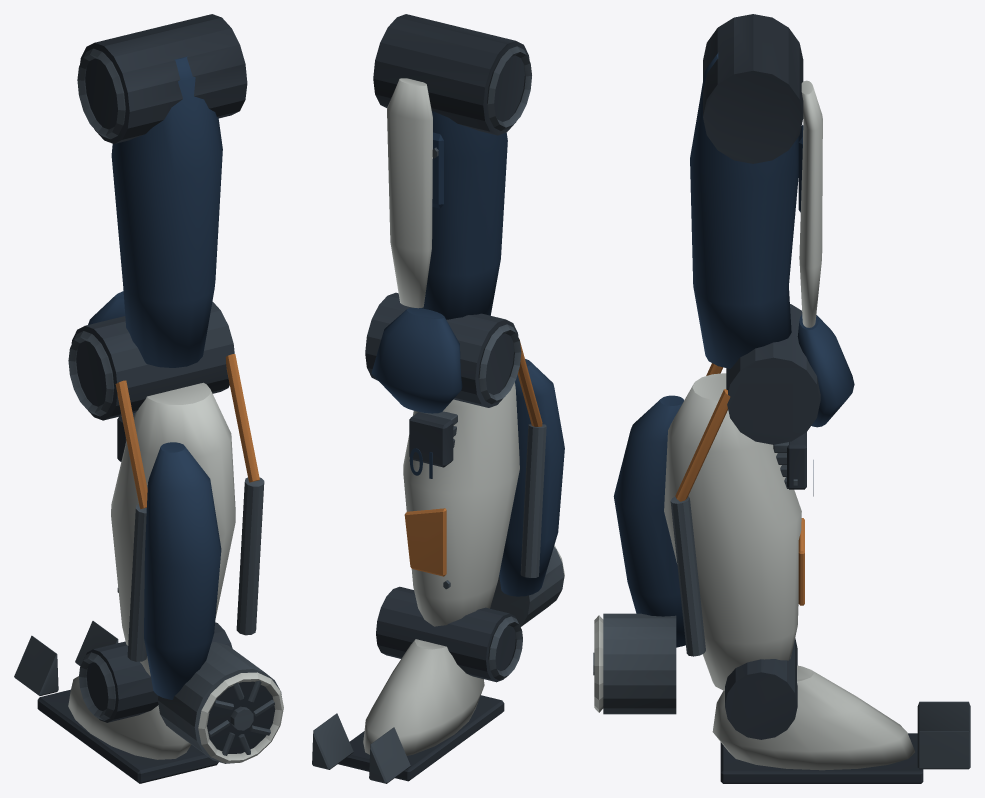
Rendered from left_leg.glb.
3 renders of one model, left to right at view 1: azimuth 30°, elevation 25°; view 2: azimuth 150°, elevation 25°; view 3: azimuth 270°, elevation 25°, orthographic. The views are drawn at different scales.
Parts seen in each view (by area): view 1: L_Thigh_shell, L_Nacelle_cowling, L_Leg_axle, L_Calf_nacelle, L_Leg_axle.001, L_Heel_fan_shroud, L_Instep, L_Leg_axle.002, L_Sole, L_Calf_ram.001, L_Fan_dark_interior, L_Fan_lip (+9 smaller); view 2: L_Calf_nacelle, L_Thigh_shell, L_Leg_axle, L_White_thigh_inlay, L_Instep, L_Knee_guard, L_Nacelle_cowling, L_Leg_axle.002, L_Leg_axle.001, L_Calf_ram, L_Sole, L_Calf_orange (+9 smaller); view 3: L_Calf_nacelle, L_Thigh_shell, L_Leg_axle, L_Instep, L_Nacelle_cowling, L_Leg_axle.001, L_Heel_fan_shroud, L_Leg_axle.002, L_White_thigh_inlay, L_Sole, L_Knee_guard, L_Calf_ram.001 (+5 smaller).
Boxes of the visible parts, left/top/right/bottom form: L_Thigh_shell: left=111, top=56, right=222, bottom=367; L_Nacelle_cowling: left=144, top=442, right=221, bottom=699; L_Leg_axle: left=80, top=14, right=247, bottom=143; L_Calf_nacelle: left=111, top=382, right=235, bottom=676; L_Leg_axle.001: left=71, top=301, right=234, bottom=420; L_Heel_fan_shroud: left=158, top=642, right=281, bottom=763; L_Instep: left=68, top=676, right=191, bottom=759; L_Leg_axle.002: left=83, top=622, right=232, bottom=722; L_Sole: left=37, top=689, right=218, bottom=783; L_Calf_ram.001: left=236, top=477, right=264, bottom=635; L_Fan_dark_interior: left=207, top=681, right=275, bottom=753; L_Fan_lip: left=198, top=672, right=283, bottom=763; L_Calf_nacelle: left=403, top=382, right=519, bottom=626; L_Thigh_shell: left=419, top=111, right=507, bottom=319; L_Leg_axle: left=373, top=14, right=529, bottom=135; L_White_thigh_inlay: left=387, top=78, right=432, bottom=308; L_Instep: left=363, top=639, right=484, bottom=755; L_Knee_guard: left=371, top=308, right=462, bottom=413; L_Nacelle_cowling: left=499, top=359, right=564, bottom=596; L_Leg_axle.002: left=376, top=586, right=516, bottom=682; L_Leg_axle.001: left=365, top=292, right=518, bottom=407; L_Calf_ram: left=520, top=424, right=546, bottom=577; L_Sole: left=338, top=695, right=504, bottom=781; L_Calf_orange: left=404, top=508, right=446, bottom=576; L_Calf_nacelle: left=664, top=373, right=801, bottom=690; L_Thigh_shell: left=690, top=52, right=798, bottom=368; L_Leg_axle: left=703, top=14, right=803, bottom=163; L_Instep: left=712, top=665, right=914, bottom=770; L_Nacelle_cowling: left=613, top=395, right=685, bottom=647; L_Leg_axle.001: left=726, top=304, right=820, bottom=444; L_Heel_fan_shroud: left=603, top=613, right=676, bottom=714; L_Leg_axle.002: left=725, top=638, right=797, bottom=739; L_White_thigh_inlay: left=799, top=80, right=822, bottom=327; L_Sole: left=720, top=733, right=923, bottom=783; L_Knee_guard: left=797, top=314, right=854, bottom=427; L_Calf_ram.001: left=670, top=496, right=705, bottom=656.
Size of the model in its own units: 0.1588 by 0.8658 by 0.4092.
